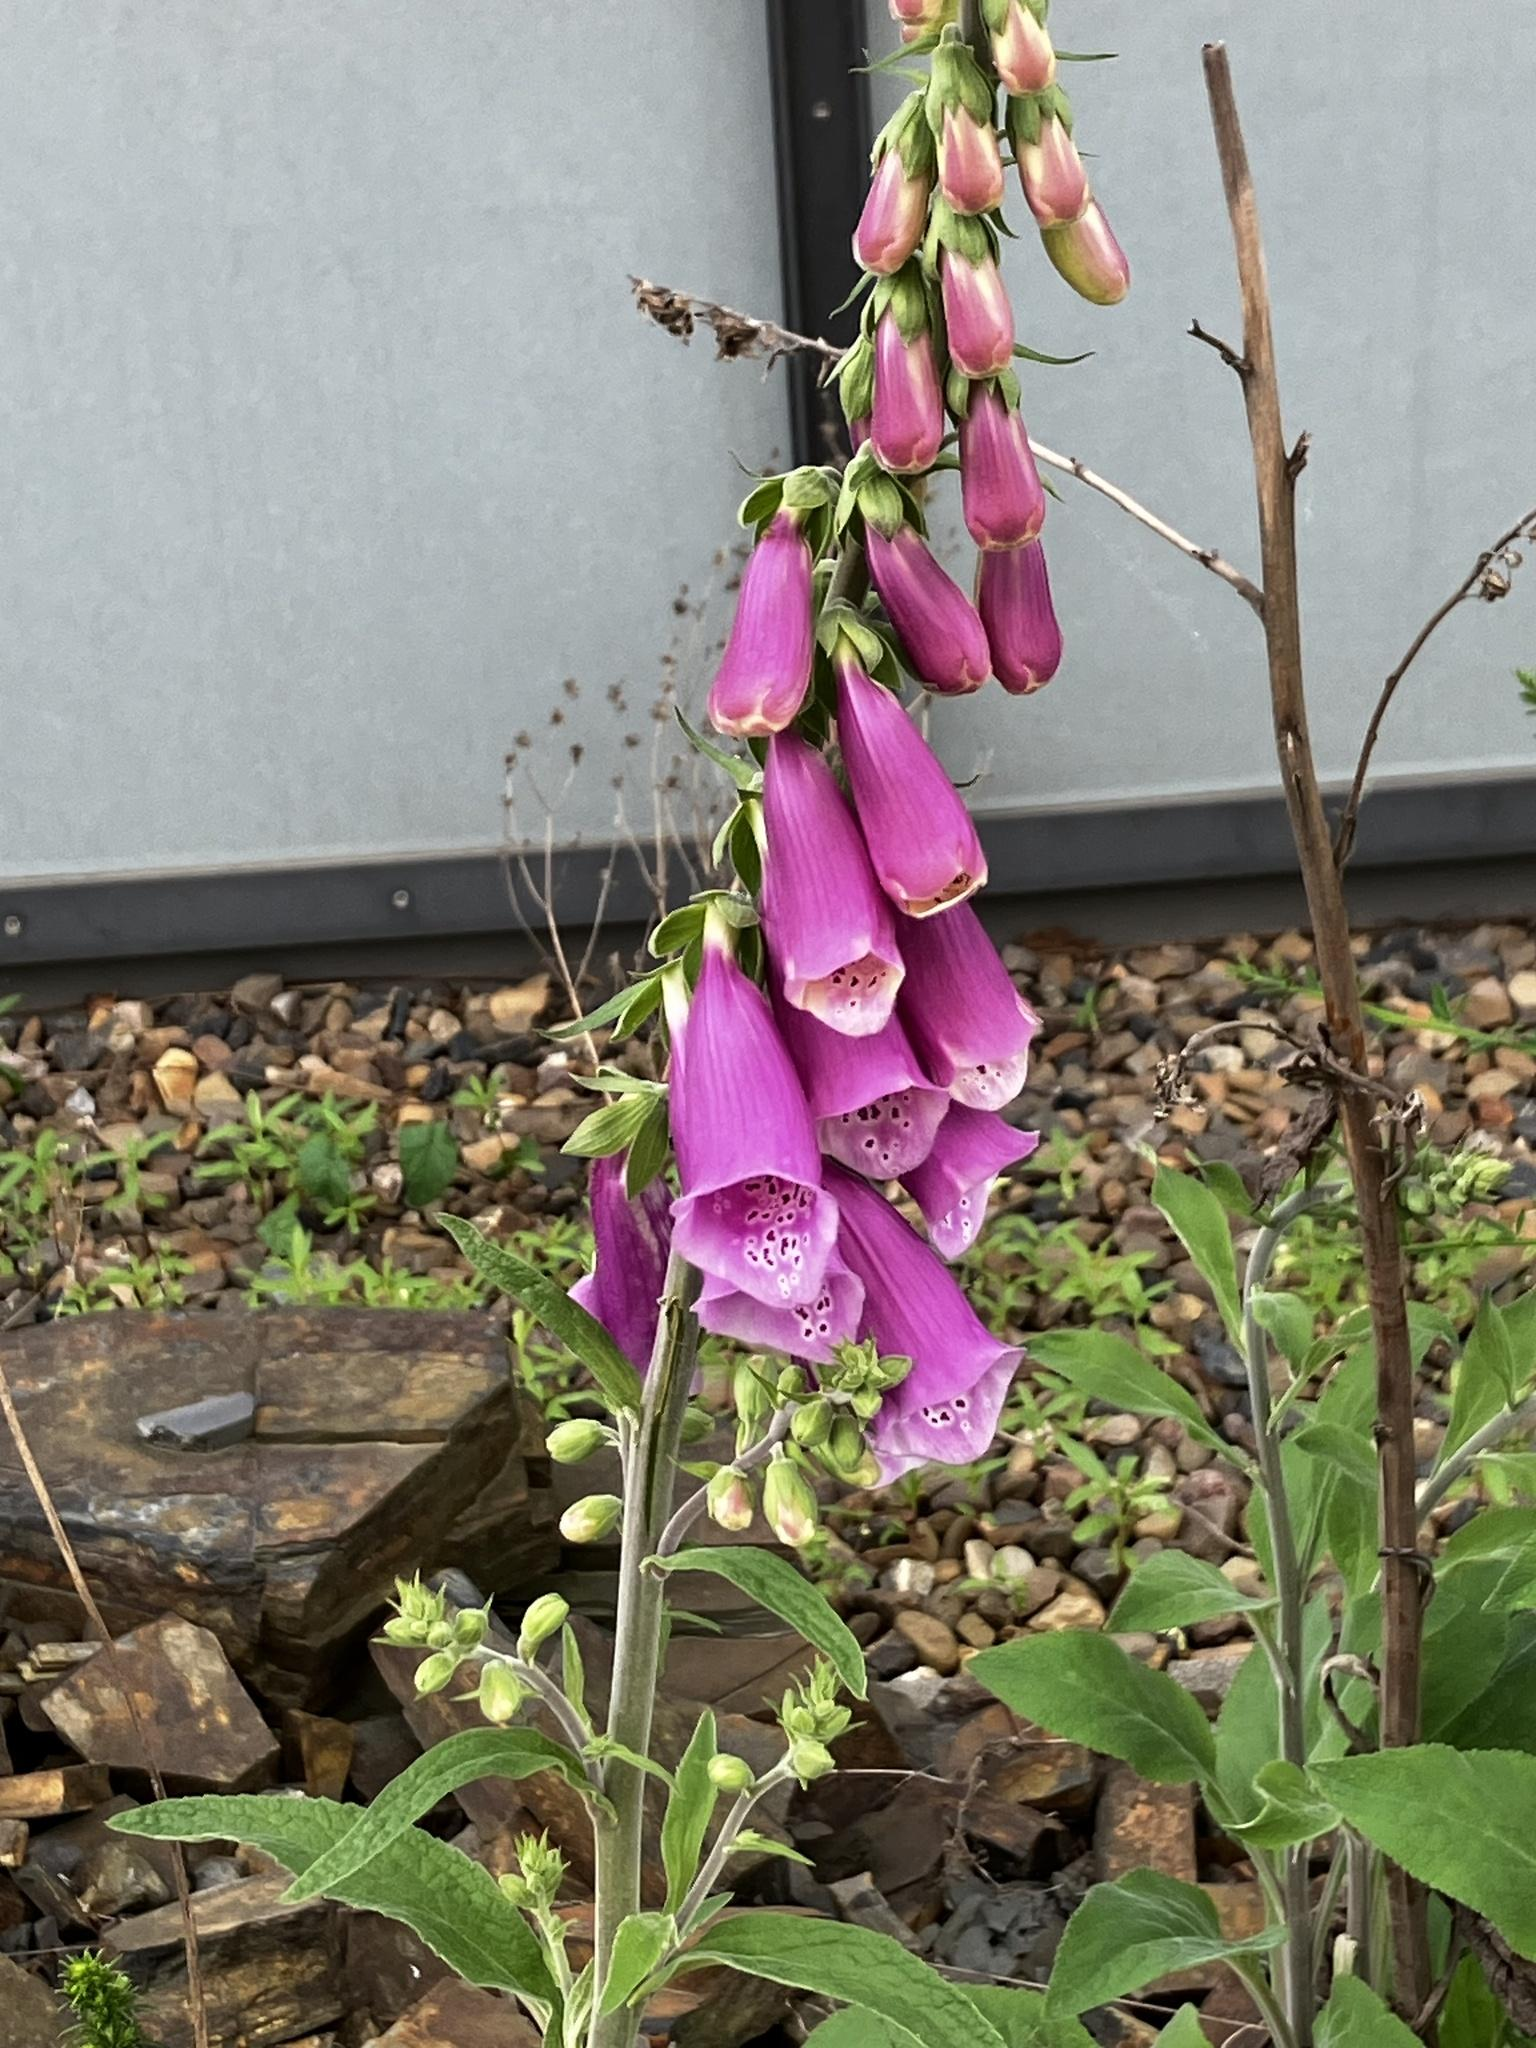Digitalis L: (252, 0, 1142, 2048)
